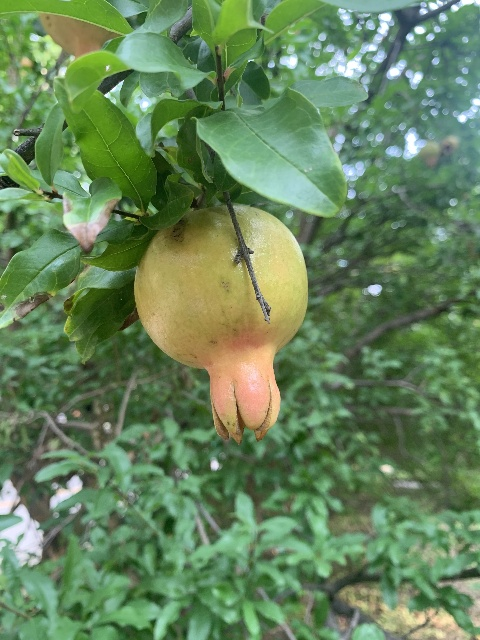mid-growth: (134, 203, 310, 444)
